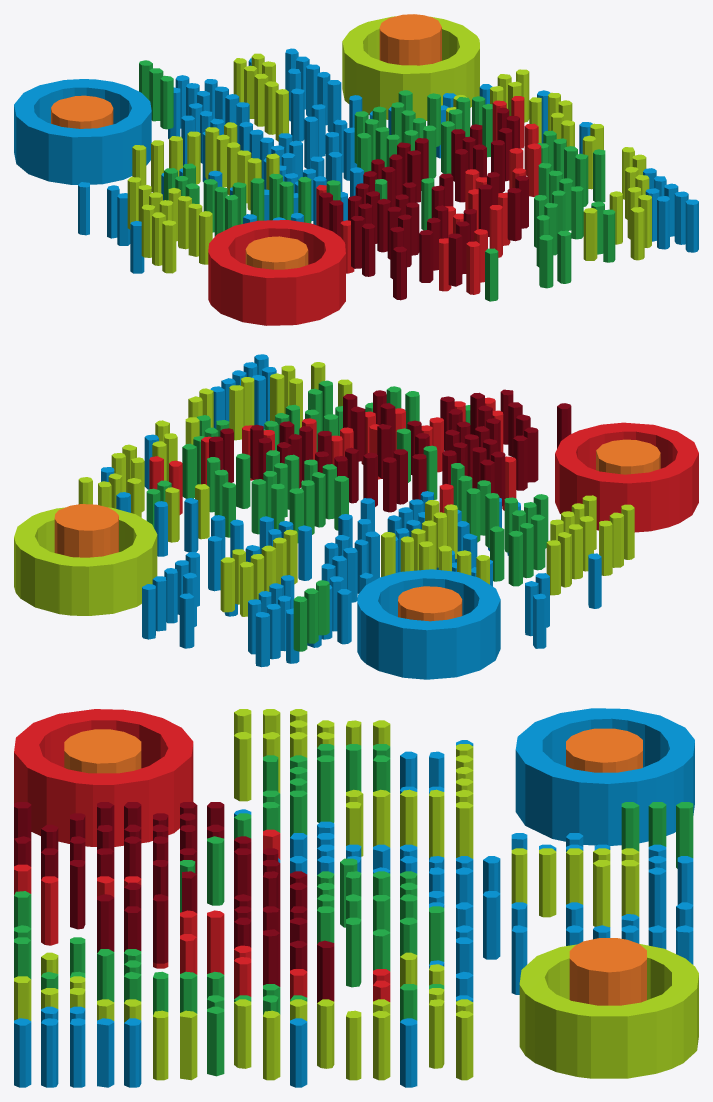
File: QR_color_transparent.glb
The picture shows the model from 3 angles, top to bottom: view 1: azimuth 30°, elevation 25°; view 2: azimuth 150°, elevation 25°; view 3: azimuth 270°, elevation 25°; orthographic projection. The views are drawn at different scales.
Bounding box in the file's own units: 0.0892 × 0.0136 × 0.0902.
